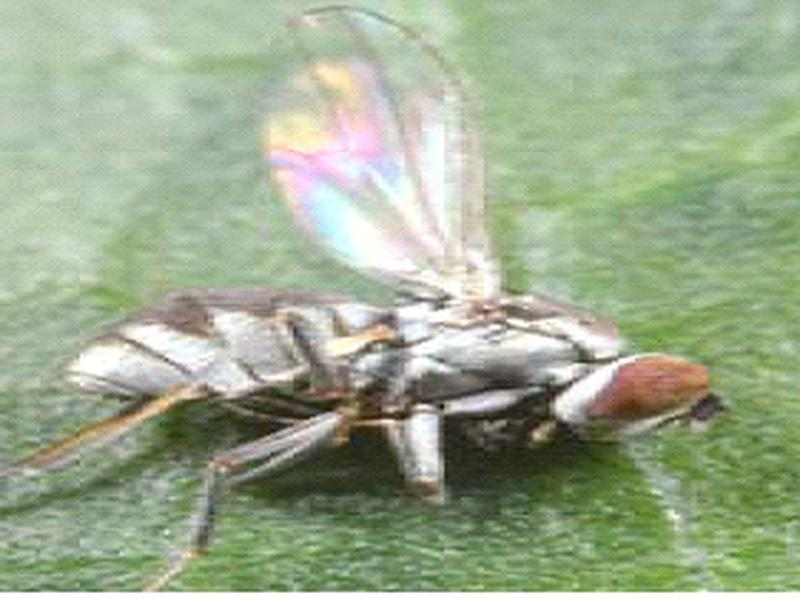Whorl_maggot: (58, 258, 727, 514)
